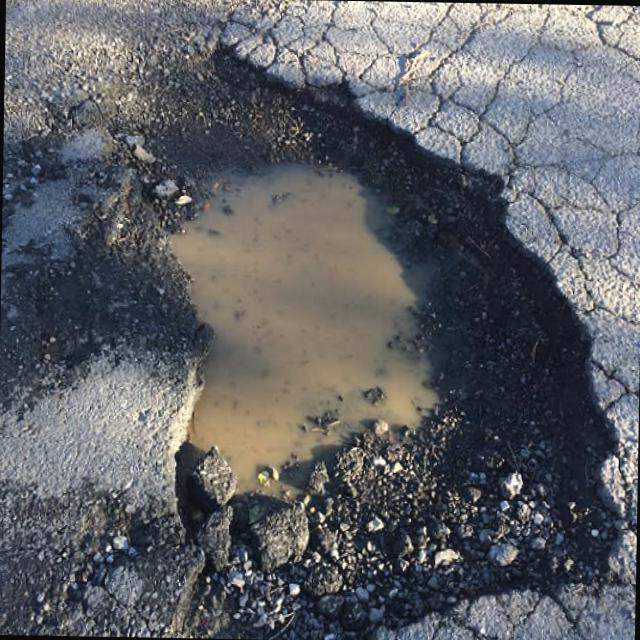bad-road: (105, 41, 634, 640)
